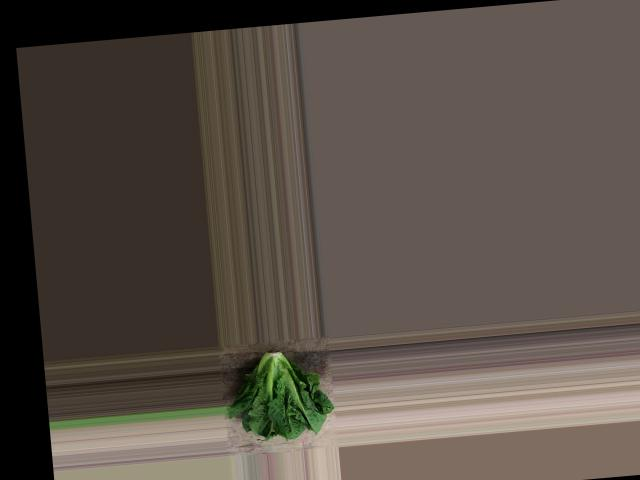lettuce: (222, 340, 333, 447)
